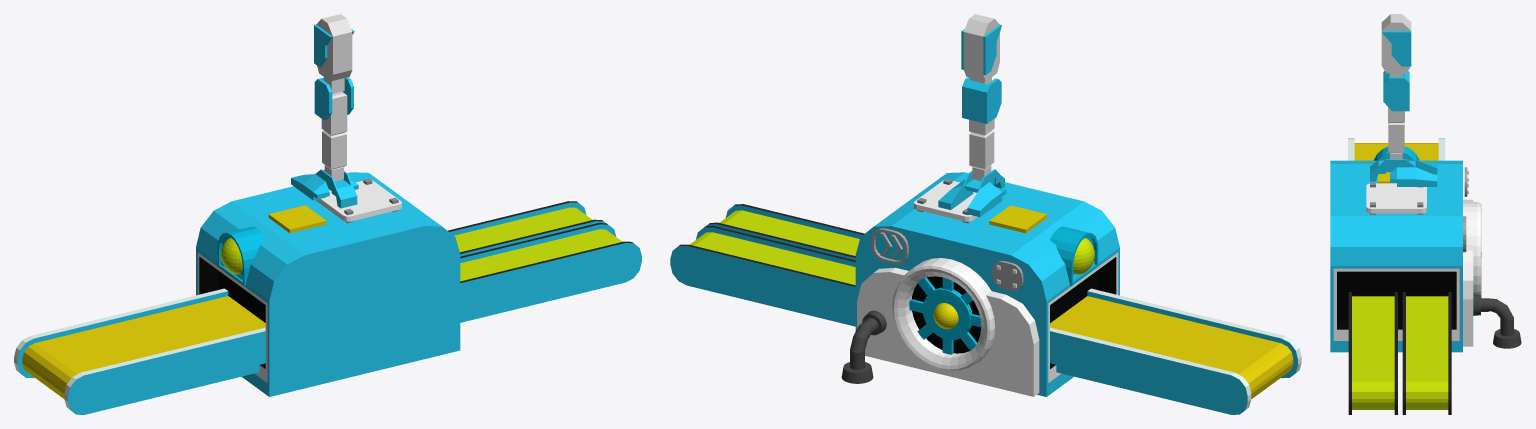
File: LegMachineLevel1.fbx
The picture shows the model from 3 angles, left to right: view 1: azimuth 30°, elevation 25°; view 2: azimuth 150°, elevation 25°; view 3: azimuth 270°, elevation 25°; orthographic projection. The views are drawn at different scales.
Visible parts, largest first — view 1: HeadMachine, HeadMachineOutorIn, line, HeadMachineOutorIn.001, Level1Leg, line.001, line.002, HeadMachineOutorIn.002, BigLight; view 2: HeadMachine, HeadMachineOutorIn, line, HeadMachineOutorIn.002, Level1Leg, line.002, HeadMachineWheel, line.001, HeadMachineOutorIn.001, BigLight; view 3: HeadMachine, Level1Leg, line.001, line.002, HeadMachineOutorIn.001, HeadMachineOutorIn.002, line, HeadMachineOutorIn.
Part boxes in pixels (left/top/right/bottom): HeadMachine: left=196, top=172, right=460, bottom=396; HeadMachineOutorIn: left=14, top=288, right=265, bottom=414; line: left=22, top=296, right=265, bottom=398; HeadMachineOutorIn.001: left=460, top=223, right=641, bottom=322; Level1Leg: left=291, top=14, right=358, bottom=208; line.001: left=460, top=229, right=622, bottom=281; line.002: left=454, top=207, right=592, bottom=252; HeadMachineOutorIn.002: left=448, top=201, right=605, bottom=256; BigLight: left=221, top=238, right=242, bottom=274; HeadMachine: left=841, top=172, right=1119, bottom=396; HeadMachineOutorIn: left=1050, top=288, right=1301, bottom=414; line: left=1050, top=296, right=1293, bottom=398; HeadMachineOutorIn.002: left=670, top=226, right=855, bottom=326; Level1Leg: left=938, top=14, right=1006, bottom=217; line.002: left=690, top=232, right=855, bottom=285; HeadMachineWheel: left=909, top=277, right=981, bottom=354; line.001: left=719, top=210, right=859, bottom=255; HeadMachineOutorIn.001: left=706, top=204, right=864, bottom=260; BigLight: left=1073, top=238, right=1094, bottom=274; HeadMachine: left=1330, top=146, right=1521, bottom=352; Level1Leg: left=1370, top=14, right=1437, bottom=186; line.001: left=1352, top=296, right=1394, bottom=409; line.002: left=1406, top=296, right=1448, bottom=409; HeadMachineOutorIn.001: left=1348, top=292, right=1397, bottom=414; HeadMachineOutorIn.002: left=1402, top=292, right=1451, bottom=414; line: left=1354, top=143, right=1438, bottom=160; HeadMachineOutorIn: left=1348, top=138, right=1445, bottom=160.
Bounding box in the file's own units: 902 × 288 × 494.
